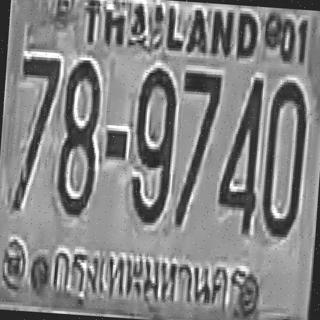N00: (260, 78, 308, 235)
N04: (215, 73, 264, 232)
N07: (10, 53, 60, 213), (173, 70, 221, 226)
N08: (54, 56, 102, 216)
N09: (128, 64, 178, 224)
P04: (46, 236, 252, 320)
